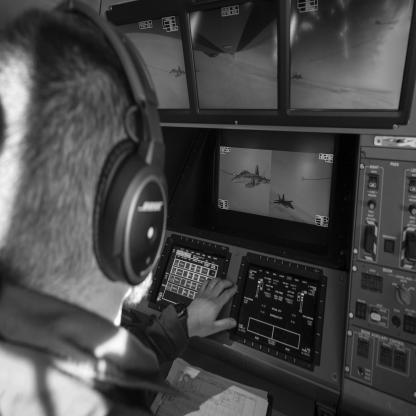F18: (232, 165, 272, 189), (274, 195, 295, 210), (168, 66, 187, 79), (291, 73, 304, 81)
